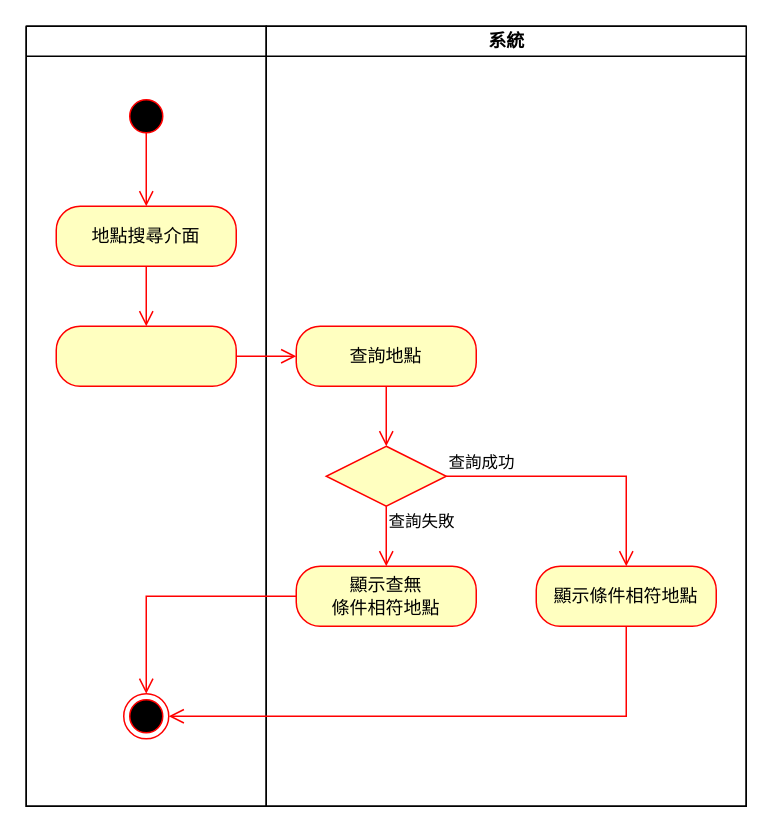
Some shapes in this 773 by 833 pixel diagram are drawn without their labels. The shapes that lost their labels are listed below. From the top down, each one's box as (x1, y1, x2, y2) in pixels, then its label:
(55, 325, 236, 386): 選取查詢條件
(25, 25, 266, 806): 使用者
